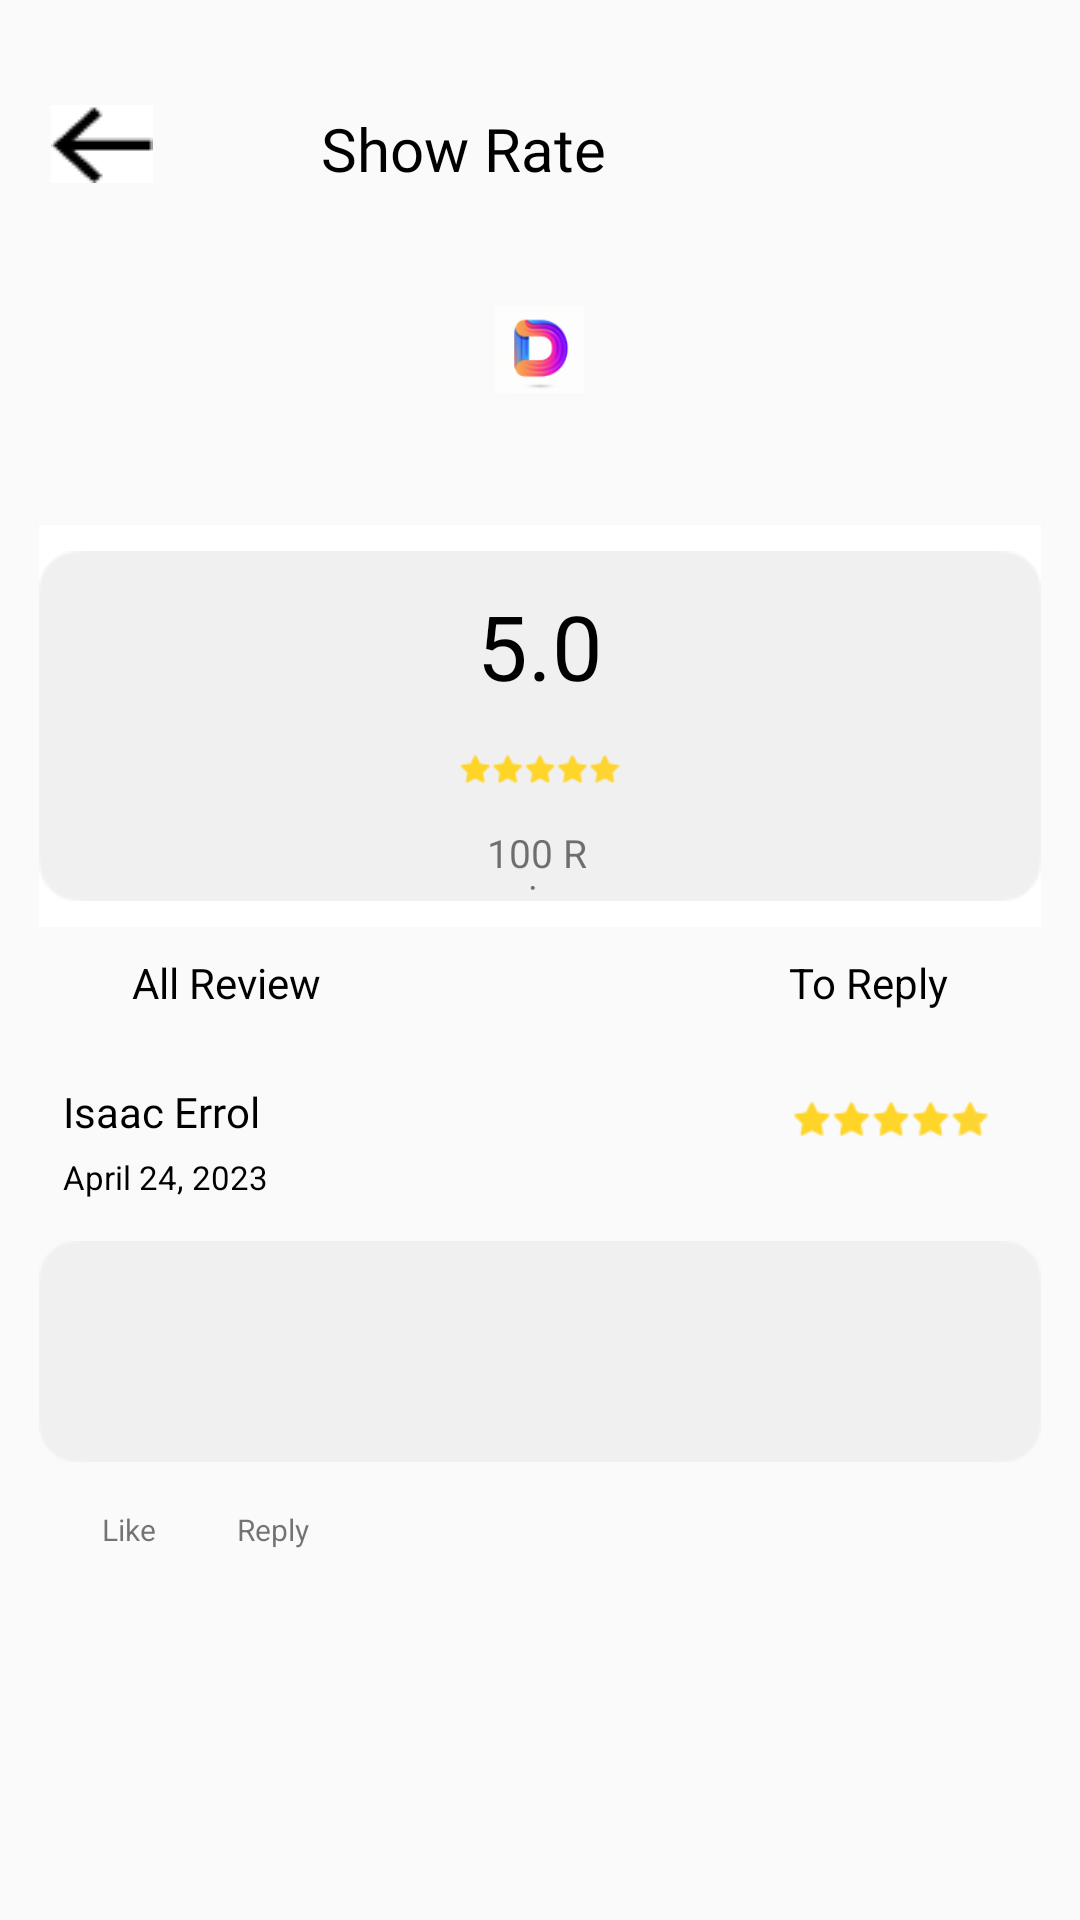

Where to tap for icons on this 1080 x 1920 app screen, as point (x, y):
back: point (102, 145)
